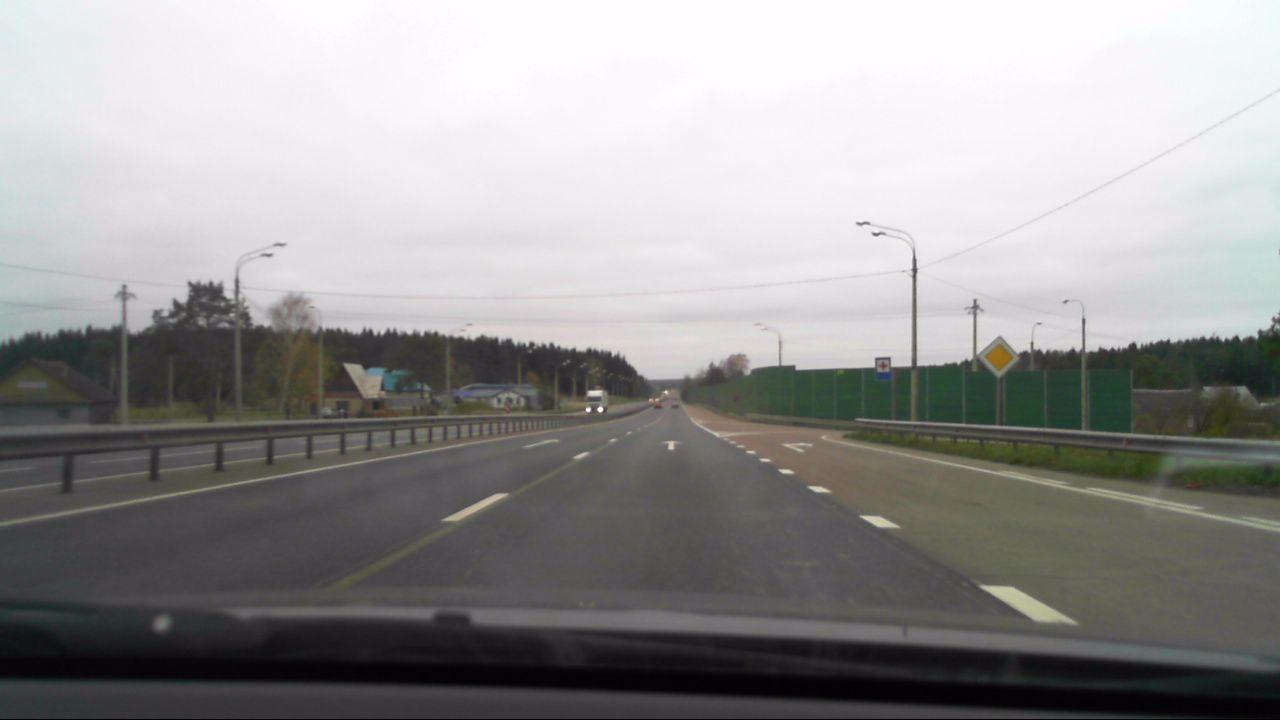2_1: (977, 333, 1019, 380)
7_1: (874, 356, 892, 382)
